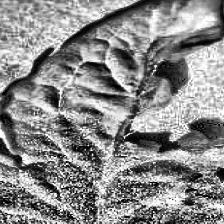Angular Leafspot: (143, 27, 222, 63), (171, 168, 224, 207), (107, 134, 165, 157), (138, 76, 174, 110)
